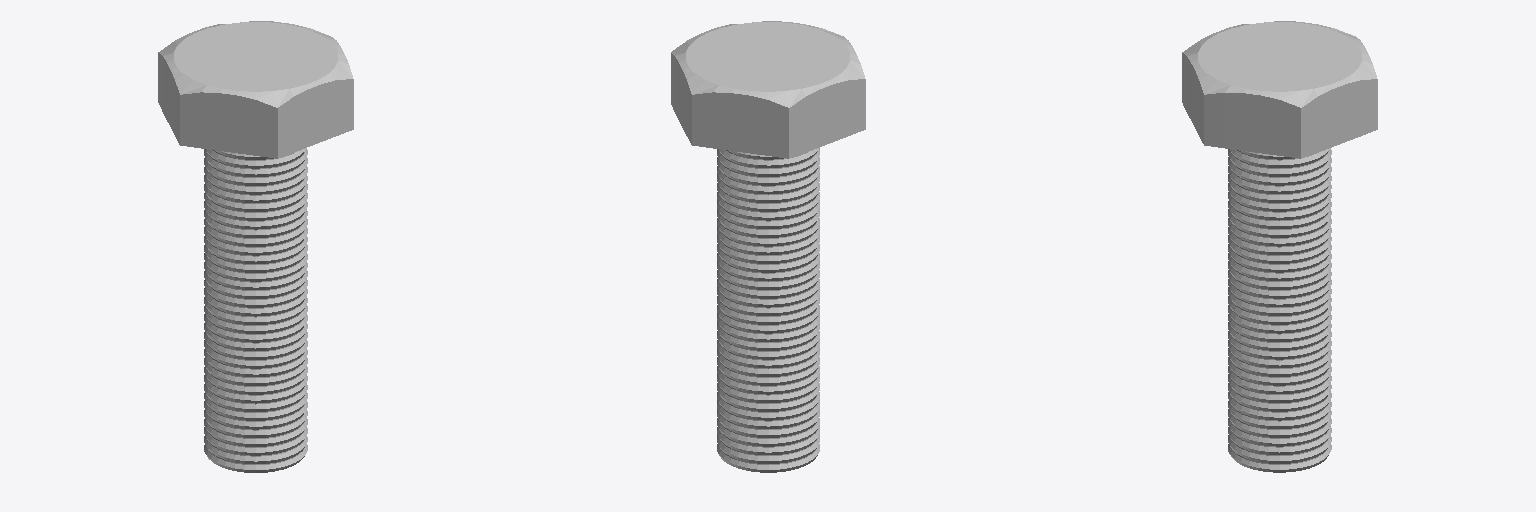
Rendered from Bolt.obj.
3 renders of one model, left to right at view 1: azimuth 30°, elevation 25°; view 2: azimuth 150°, elevation 25°; view 3: azimuth 270°, elevation 25°, orthographic.
Visible parts, largest first — view 1: default; view 2: default; view 3: default.
Part boxes in pixels (bbox=[...]): default: bbox=[158, 21, 353, 472]; default: bbox=[671, 21, 865, 472]; default: bbox=[1182, 21, 1377, 472].
Bounding box in the file's own units: 63.95 × 140 × 62.33.